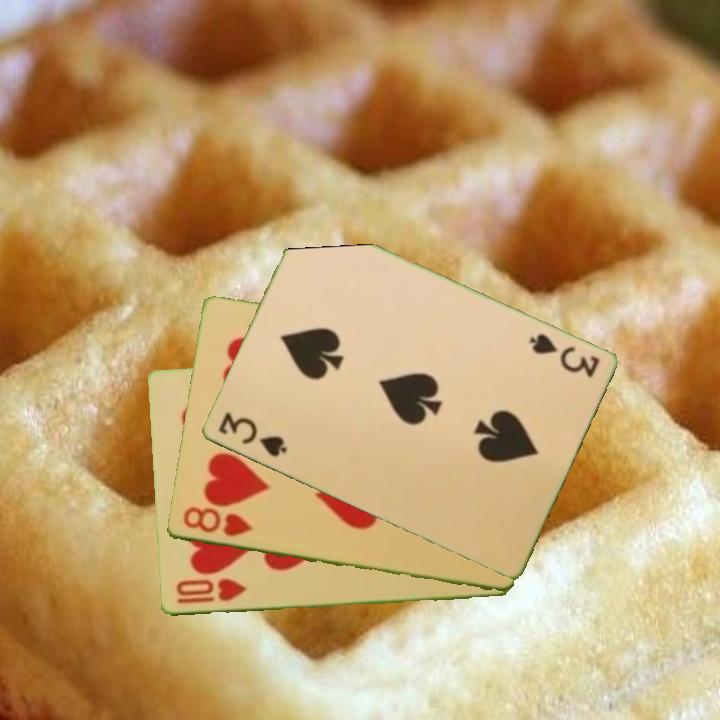10h: (172, 575, 249, 607)
3s: (214, 408, 289, 461), (525, 330, 602, 381)
8h: (179, 504, 255, 540)
